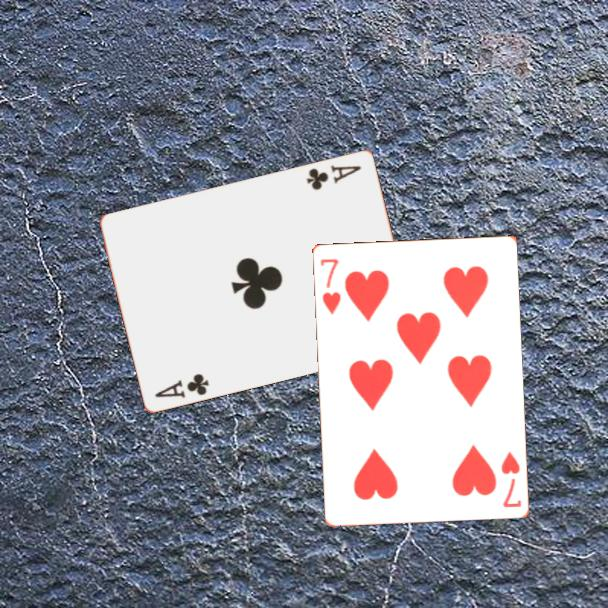c01: (303, 161, 364, 193), (152, 370, 212, 400)
h07: (497, 447, 524, 510), (317, 255, 343, 317)
